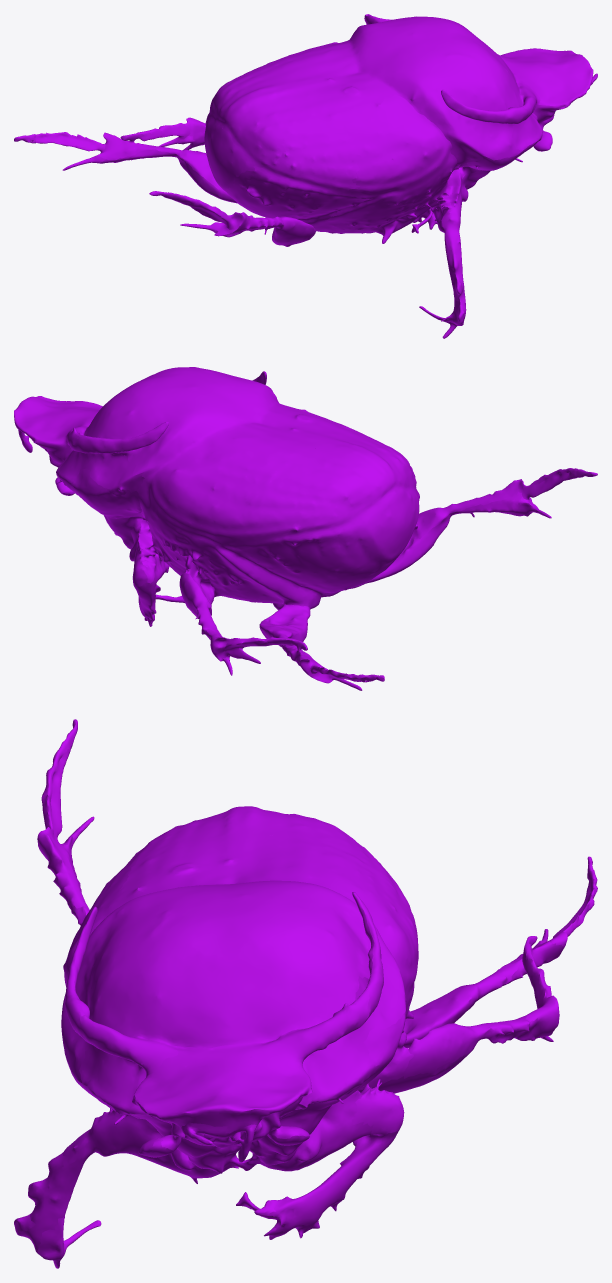
3 renders of one model, top to bottom at view 1: azimuth 30°, elevation 25°; view 2: azimuth 150°, elevation 25°; view 3: azimuth 270°, elevation 25°, orthographic. The views are drawn at different scales.
Visible parts, largest first — view 1: split_parent_0; view 2: split_parent_0; view 3: split_parent_0.
Boxes of the visible parts, x1,y1,x2,y2 form: split_parent_0: [14, 14, 597, 338]; split_parent_0: [14, 367, 597, 690]; split_parent_0: [14, 719, 597, 1268].
Bounding box in the file's own units: 1 × 0.4936 × 0.6606.
